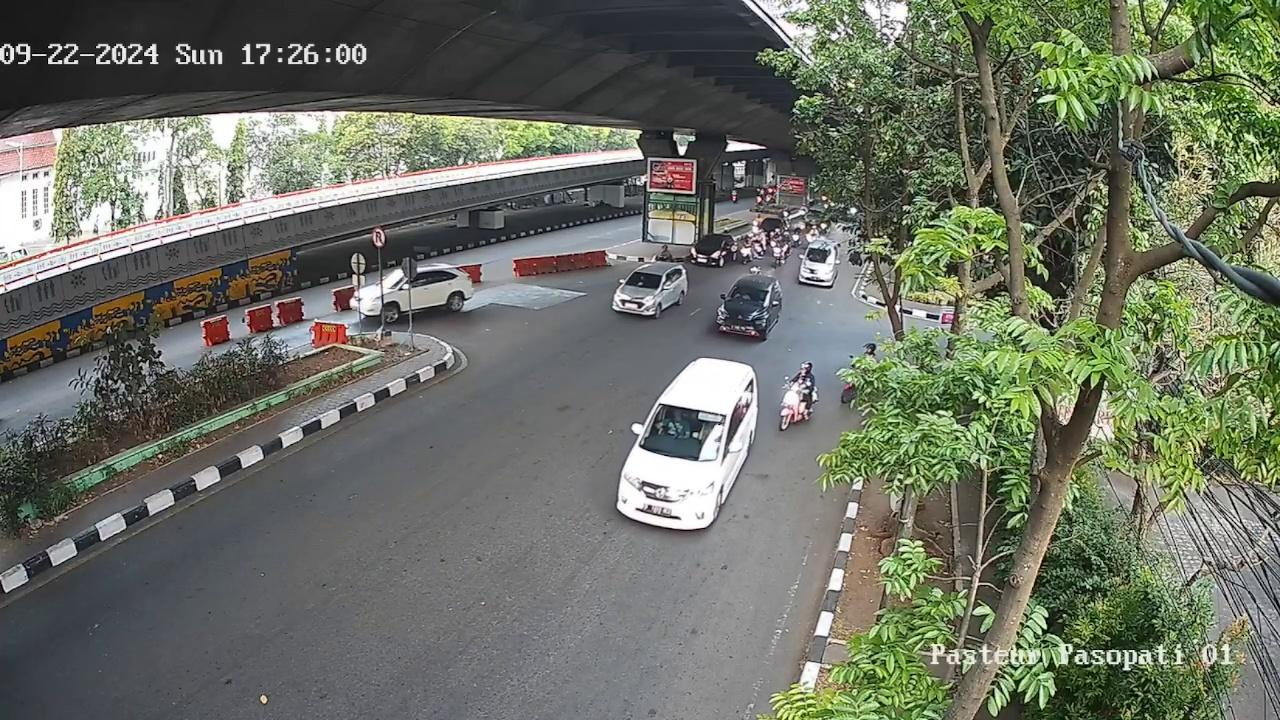pakai: (663, 413, 689, 440)
tidak-pakai: (736, 290, 750, 302)
windshield: (640, 406, 726, 455), (730, 284, 767, 306), (623, 271, 663, 289)
